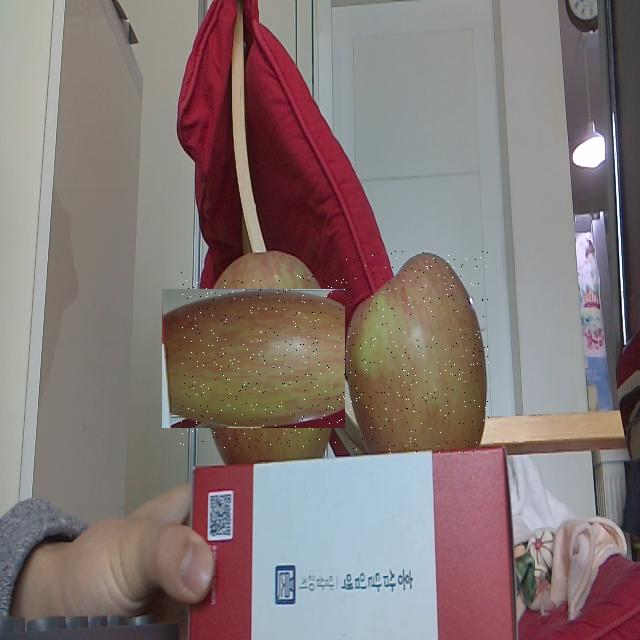apple: (180, 270, 357, 448), (345, 250, 489, 453)
